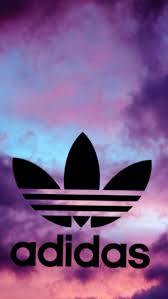adidas: (9, 134, 155, 268)
